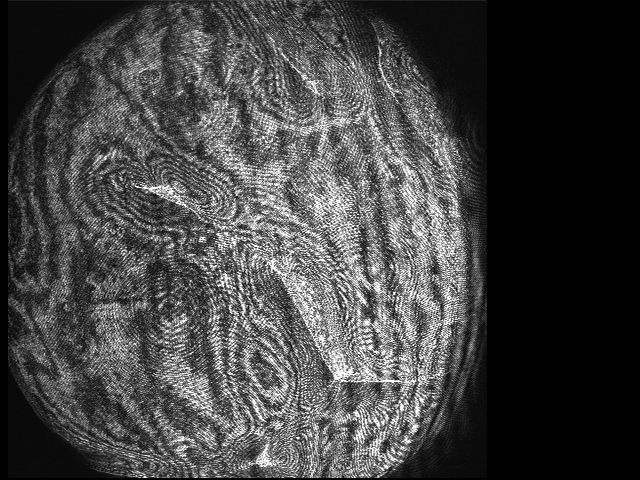plume: (88, 149, 247, 234)
